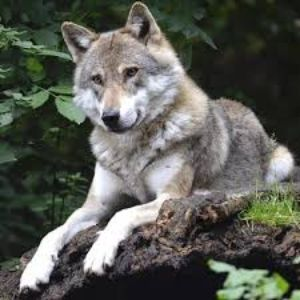wolf: (31, 3, 282, 266)
